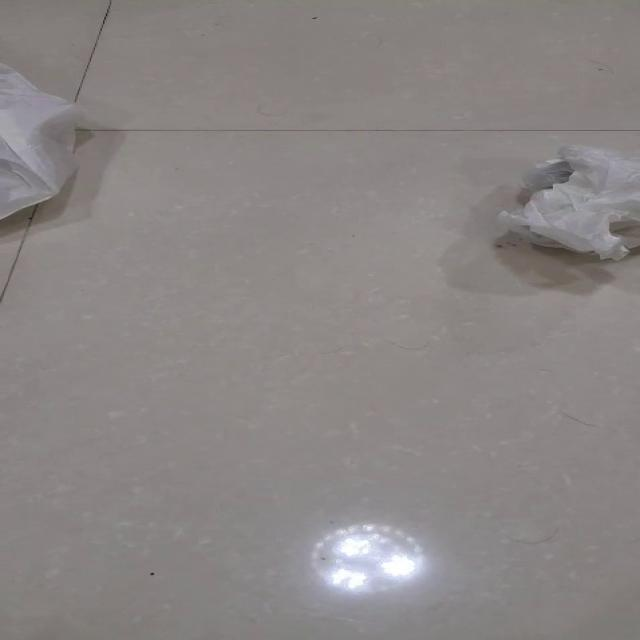plastic: (495, 143, 639, 261), (0, 61, 84, 220)
